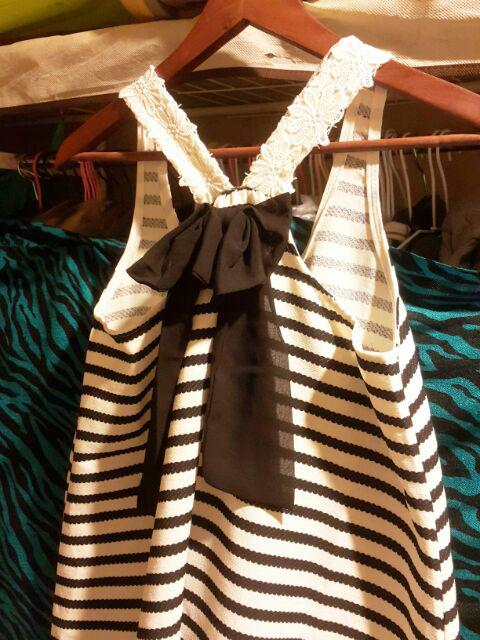Tops: (68, 43, 458, 640)
